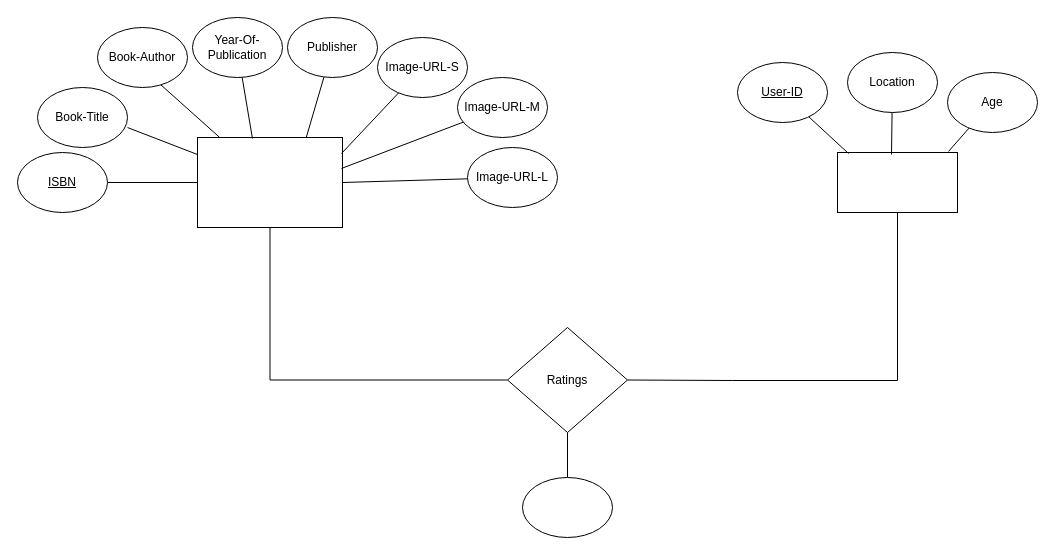
Some shapes in this 1055 by 555 pixel diagram are drawn without their labels. The box of each missing label's shape, as (x1, y1, x2, y2) in pixels:
Book-Rating: (522, 476, 612, 538)
Books: (196, 136, 342, 228)
Users: (836, 152, 958, 212)
